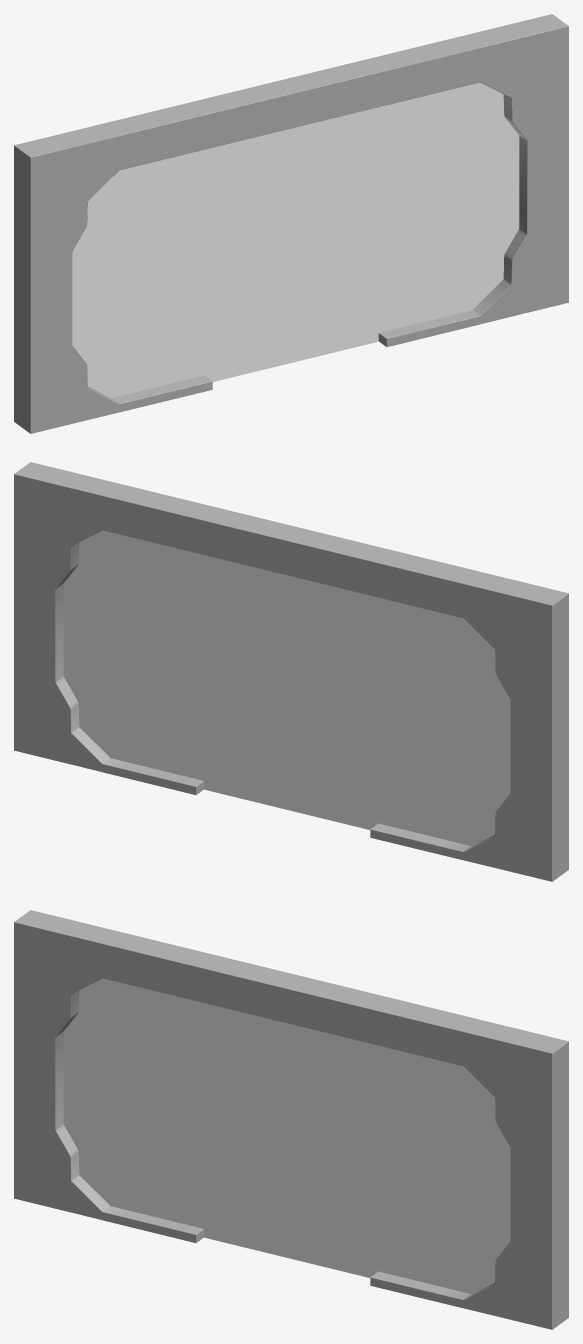
Rendered from Labthing5.0.glb.
3 renders of one model, top to bottom at view 1: azimuth 30°, elevation 25°; view 2: azimuth 150°, elevation 25°; view 3: azimuth 330°, elevation 25°, orthographic.
Visible parts, largest first — view 1: Plane.004, Plane.003; view 2: Plane.004, Plane.003; view 3: Plane.004, Plane.003.
Part boxes in pixels (box(x1,y1,x2,y2)): Plane.004: box(72, 82, 519, 397); Plane.003: box(14, 14, 568, 433); Plane.004: box(63, 530, 510, 845); Plane.003: box(14, 462, 568, 881); Plane.004: box(63, 978, 510, 1293); Plane.003: box(14, 910, 568, 1329).
Size of the model in its own units: 18.6 by 9.14 by 1.
Materials: 2 (1 with a texture image).
